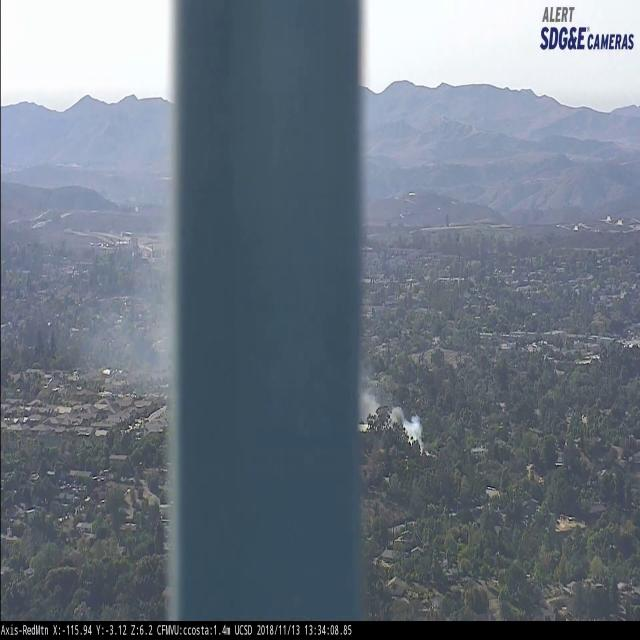smoke: (80, 258, 167, 404), (360, 376, 442, 464)
